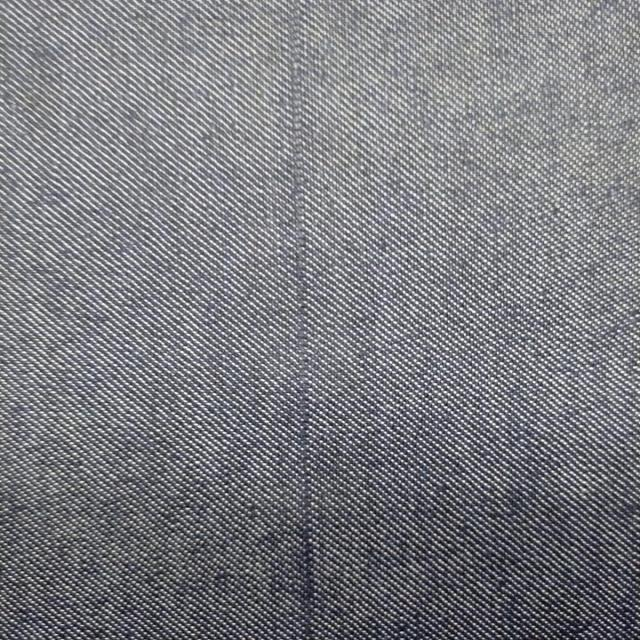Line: (287, 0, 320, 640)
